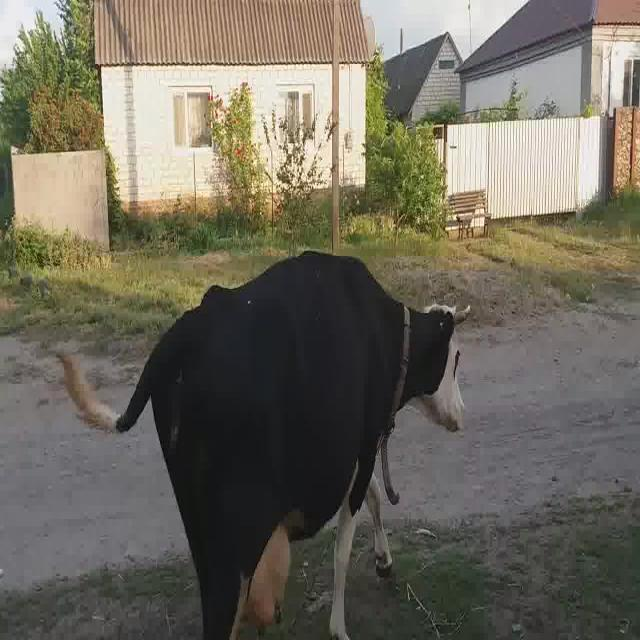cow: (64, 251, 466, 640)
